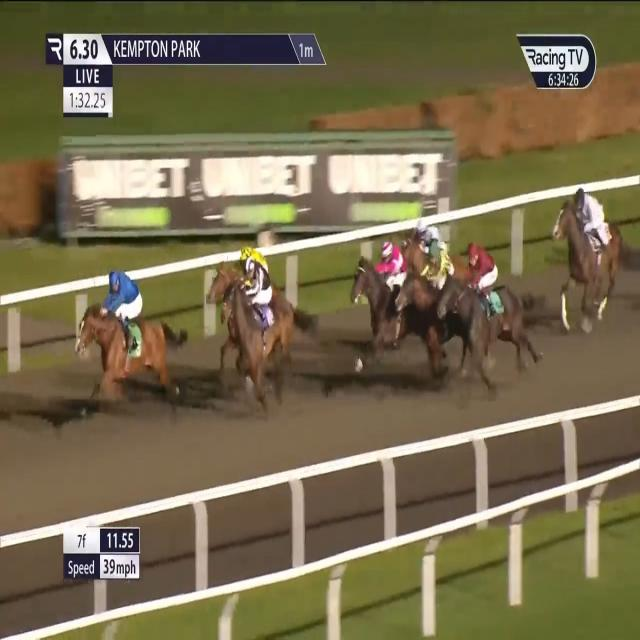horses-racing: (76, 273, 186, 405), (439, 245, 537, 378), (222, 262, 310, 386), (559, 185, 619, 327), (357, 232, 410, 363), (399, 240, 459, 348), (206, 241, 281, 317), (403, 219, 451, 273)
